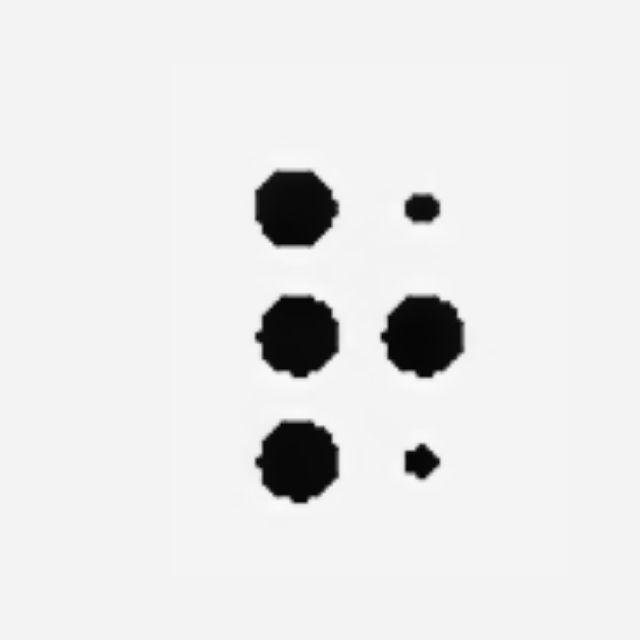rin: (255, 167, 465, 505)
